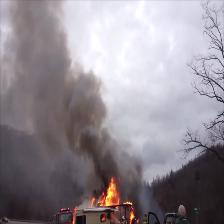fire: (104, 179, 120, 205)
smoke: (18, 5, 59, 122), (63, 90, 100, 175), (103, 143, 134, 178)
